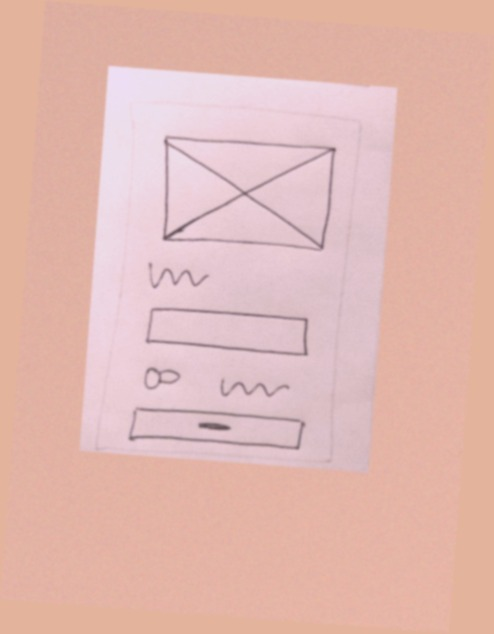button: (124, 402, 309, 458)
image: (150, 129, 341, 264)
switch: (139, 364, 185, 397)
text: (210, 371, 291, 409), (142, 260, 214, 302)
text_input: (139, 302, 315, 365)
